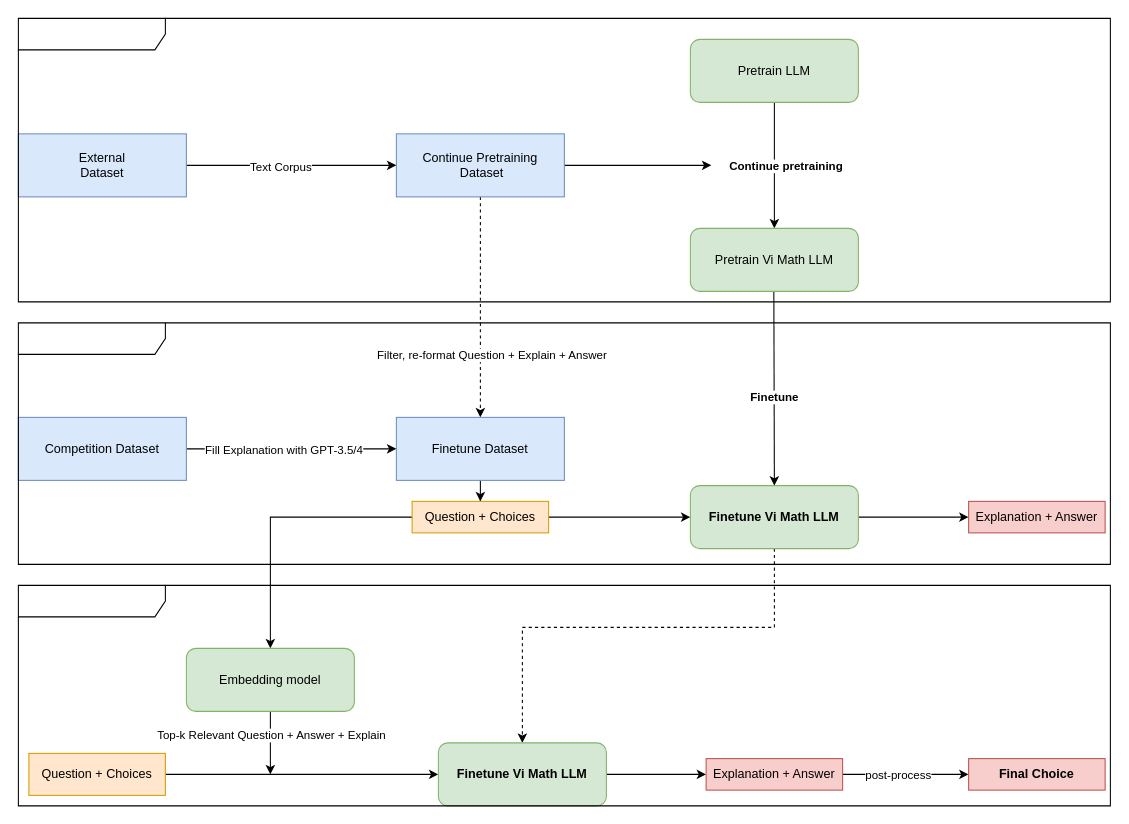
Some shapes in this 1129 by 824 pixel diagram are drawn without their labels. Here are the shapes that lost their labels. From the top down, the centre of each, then its label:
At point 563,159: "Stage 1: continue pretrain".
At point 563,443: "Stage 2: finetune".
At point 563,695: "Inference".
